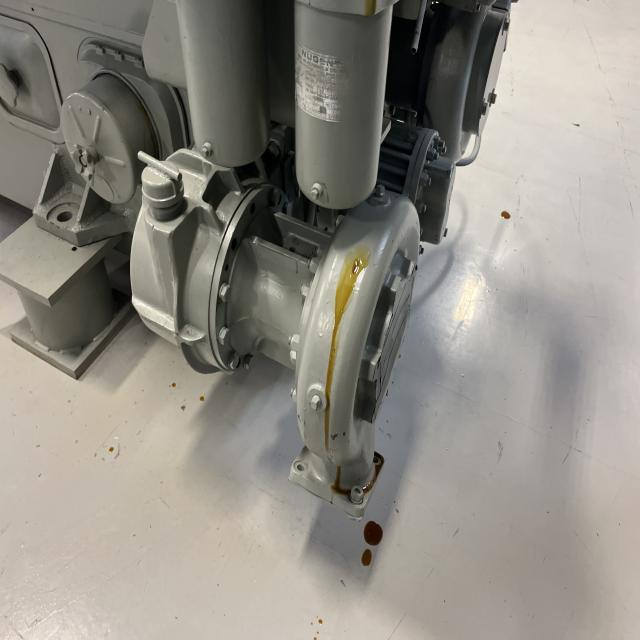Oil Leak: (302, 245, 372, 451), (327, 441, 387, 510), (363, 520, 383, 546), (360, 547, 373, 567), (500, 209, 512, 221), (343, 283, 352, 293)
